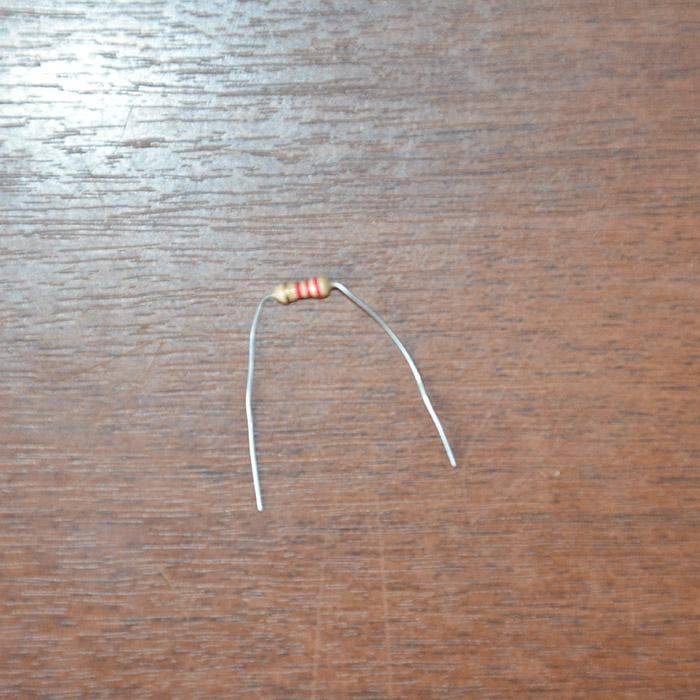resistor: (273, 274, 335, 304)
